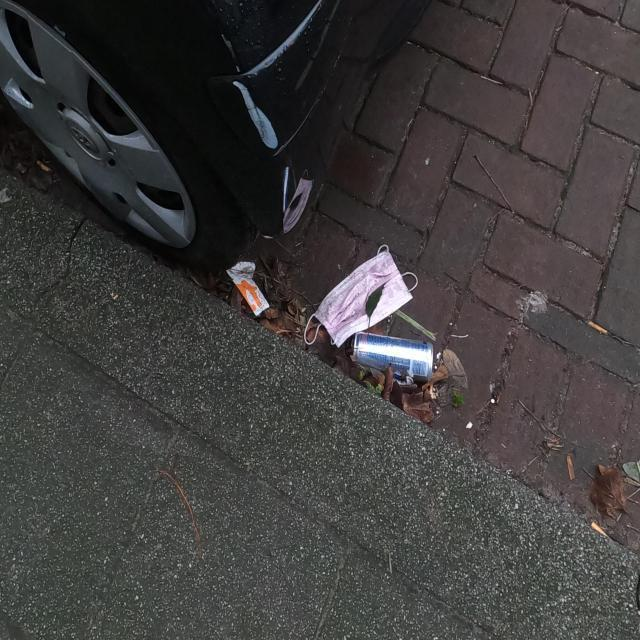Can-Metal: (352, 331, 434, 383)
Mask: (303, 243, 419, 349), (280, 168, 318, 236)
Plastic: (226, 260, 270, 318)
